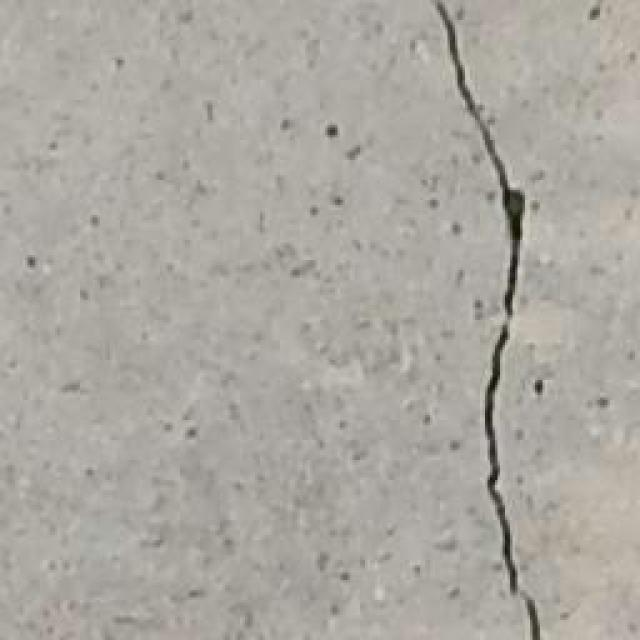concrete-crack: (428, 0, 542, 640)
